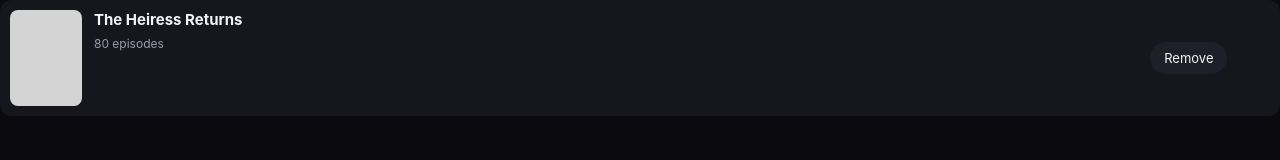
Scenario: a favourite write that failed › shows no error state for a missing session
Click the button with test id "favorite-remove" at coordinates (1189, 58), box [1150,42,1227,74]
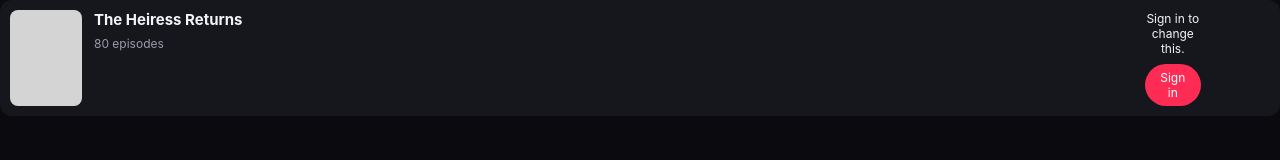
Now the element with test id "favorite-row-sign-in" is shown, box [1145,10,1201,106]
